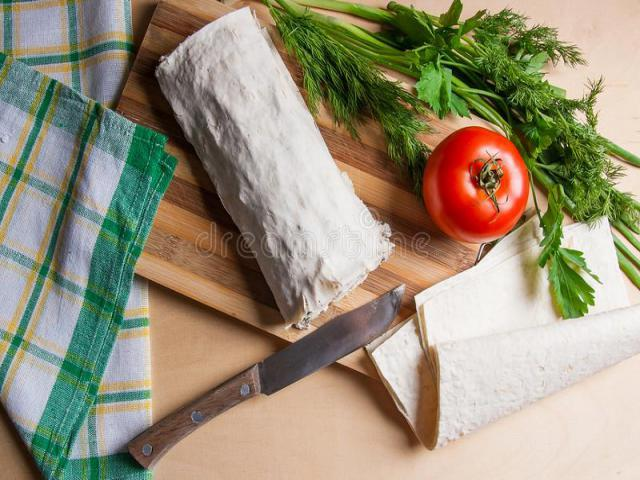tomato: (428, 127, 532, 253)
